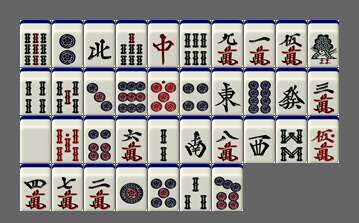0m: (308, 116, 339, 163)
0p: (148, 68, 179, 115)
0s: (52, 116, 83, 163)
1m: (244, 20, 275, 67)
1p: (116, 164, 147, 211)
1s: (308, 20, 339, 67)
1z: (212, 68, 243, 115)
2m: (84, 164, 115, 211)
2p: (52, 20, 83, 67)
2s: (148, 116, 179, 163)
2z: (180, 116, 211, 163)
3m: (308, 68, 339, 115)
3p: (84, 68, 115, 115)
3s: (180, 164, 211, 211)
3z: (244, 116, 275, 163)
4m: (20, 164, 51, 211)
4p: (180, 68, 211, 115)
4s: (20, 68, 51, 115)
4z: (84, 20, 115, 67)
5m: (276, 20, 307, 67)
5p: (148, 164, 179, 211)
5s: (52, 68, 83, 115)
5z: (20, 116, 51, 163)
6m: (116, 116, 147, 163)
6p: (84, 116, 115, 163)
6s: (180, 20, 211, 67)
6z: (276, 68, 307, 115)
7m: (52, 164, 83, 211)
7p: (212, 164, 243, 211)
7s: (116, 20, 147, 67)
7z: (148, 20, 179, 67)
8m: (212, 116, 243, 163)
8p: (244, 68, 275, 115)
8s: (276, 116, 307, 163)
9m: (212, 20, 243, 67)
9p: (116, 68, 147, 115)
9s: (20, 20, 51, 67)
